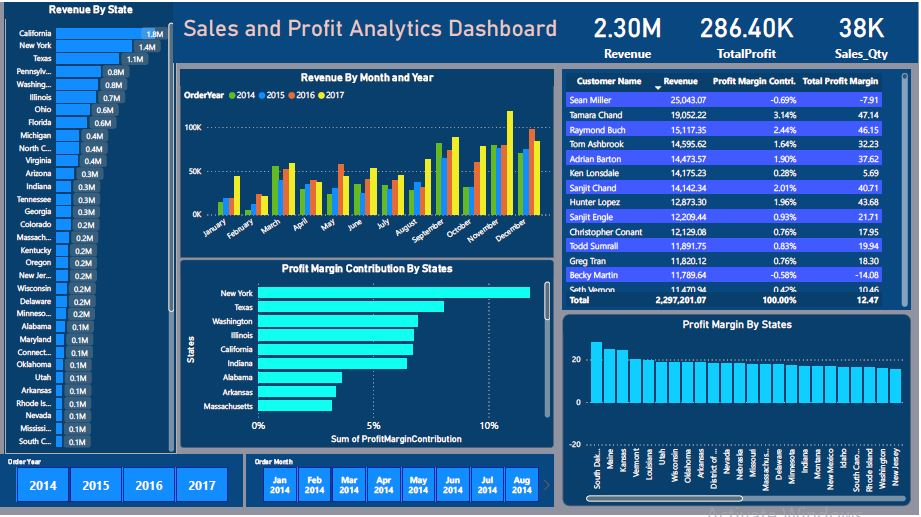

The page's visual inventory and layout, read from the dashboard file:
{"tool":"powerbi","page":{"name":"Duplicate of Page 2","canvas":[1450,810],"ordinal":2},"visuals":[{"type":"card","fields":{"Values":["BaseMeasures.Revenue"]},"box":[894.5,0,191.3,95.7],"z":0},{"type":"card","fields":{"Values":["BaseMeasures.Sales_Qty"]},"box":[1270.8,0,178.6,95.7],"z":1000},{"type":"barChart","title":"Revenue By State","fields":{"Y":["BaseMeasures.Revenue"],"Category":["pro_sales customers.States"]},"box":[7,0,271,714],"z":2000},{"type":"slicer","fields":{"Values":["pro_sales dates.Year"]},"box":[0,714,383,82],"z":3000},{"type":"slicer","fields":{"Values":["pro_sales dates.MonthYear"]},"box":[389,714,485,82],"z":4000},{"type":"clusteredColumnChart","title":"Revenue By Month and Year","fields":{"Category":["pro_sales dates.FirstDateOfMonth.Variation.Date Hierarchy.Month"],"Y":["BaseMeasures.Revenue"],"Series":["pro_sales dates.OrderYear"]},"box":[283.8,106.8,590,296.6],"z":5000},{"type":"card","fields":{"Values":["BaseMeasures.TotalProfit"]},"box":[1085.8,0,185,95.7],"z":6000},{"type":"barChart","title":"Profit Margin Contribution By States","fields":{"Y":["pro_sales orders.ProfitMarginContribution"],"Category":["pro_sales customers.States"]},"box":[284,407,590,297],"z":7000},{"type":"tableEx","title":"Top 5 Customers","fields":{"Values":["pro_sales customers.CustomerName","BaseMeasures.Revenue","pro_sales orders.ProfitMarginContribution","BaseMeasures.State_Weighted_Profit_Margin"]},"box":[888.1,107,550,379.5],"z":8000},{"type":"columnChart","title":"Profit Margin By States","fields":{"Category":["pro_sales customers.States"],"Y":["BaseMeasures.State_Weighted_Profit_Margin"]},"box":[888,493,550,303],"z":9000},{"type":"card","fields":{"Values":["BaseMeasures.Title"]},"box":[272.7,0,621.9,95.7],"z":10000}]}

Visuals, with their boxes in screenshot pixels (x1, y1, x2, y2), scaled from the page's 1450x810 canvas onto the 921x517 screenshot:
card - BaseMeasures.Revenue: locate(568, 0, 690, 61)
card - BaseMeasures.Sales_Qty: locate(807, 0, 920, 61)
"Revenue By State" barChart: locate(4, 0, 177, 456)
slicer - pro_sales dates.Year: locate(0, 456, 243, 508)
slicer - pro_sales dates.MonthYear: locate(247, 456, 555, 508)
"Revenue By Month and Year" clusteredColumnChart: locate(180, 68, 555, 257)
card - BaseMeasures.TotalProfit: locate(690, 0, 807, 61)
"Profit Margin Contribution By States" barChart: locate(180, 260, 555, 449)
"Top 5 Customers" tableEx: locate(564, 68, 913, 311)
"Profit Margin By States" columnChart: locate(564, 315, 913, 508)
card - BaseMeasures.Title: locate(173, 0, 568, 61)
